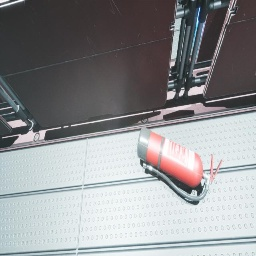FireExtinguisher ]: (137, 127, 223, 201)
